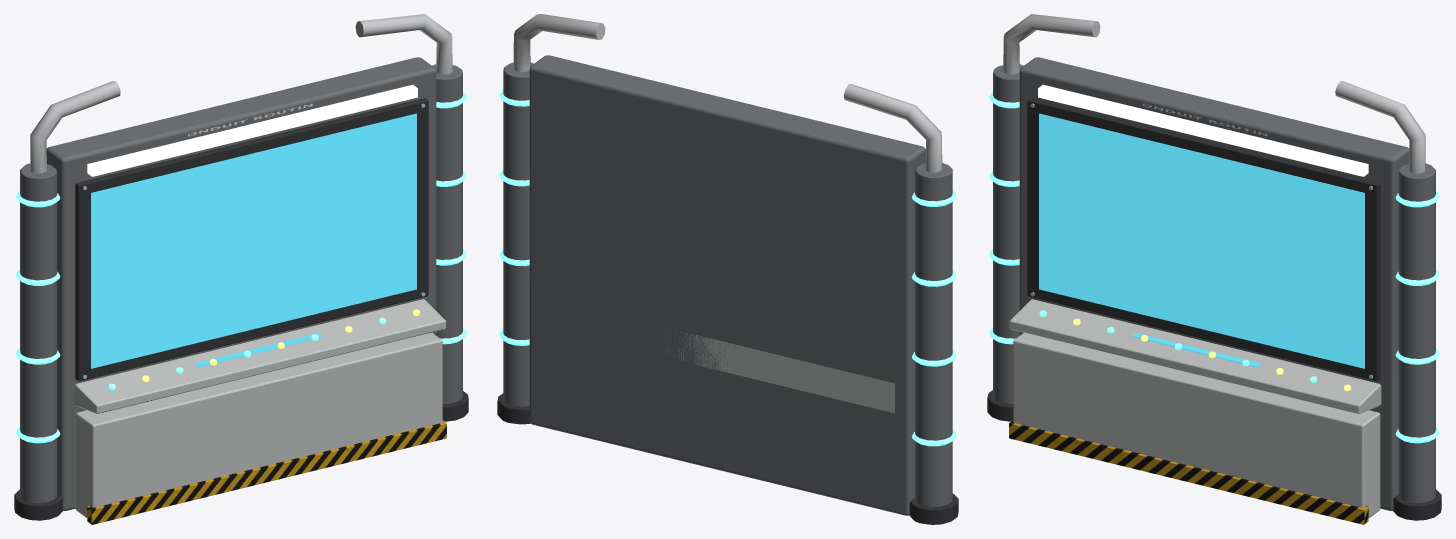
File: conduit_console.glb
3 renders of one model, left to right at view 1: azimuth 30°, elevation 25°; view 2: azimuth 150°, elevation 25°; view 3: azimuth 330°, elevation 25°, orthographic.
Parts seen in each view (by area): view 1: conduit_console; view 2: conduit_console; view 3: conduit_console.
Boxes of the visible parts, x1,y1,x2,y2 form: conduit_console: (14, 14, 468, 524); conduit_console: (497, 14, 958, 524); conduit_console: (987, 14, 1441, 524).
Bounding box in the file's own units: 3.57 × 3.11 × 0.59.
10 materials, 2 textured.
